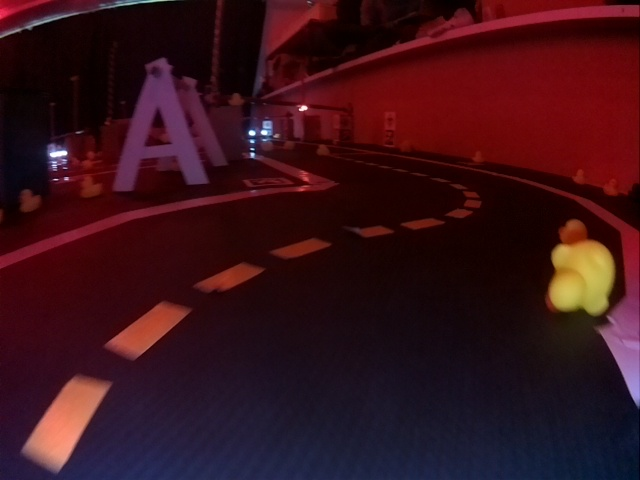Duckie: (548, 235, 614, 316), (80, 176, 101, 196), (21, 190, 40, 212), (605, 178, 619, 196), (573, 170, 586, 181), (474, 153, 483, 162)
QR code: (248, 177, 290, 186)
